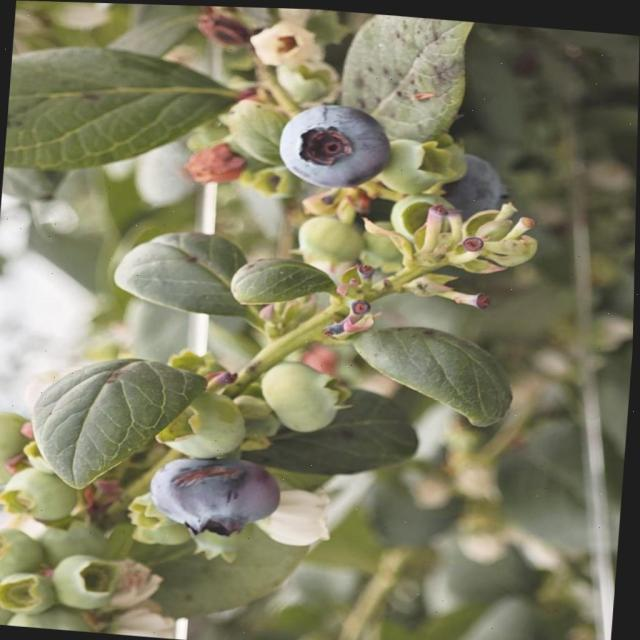RipeBlueBerry: (150, 450, 286, 540), (271, 96, 394, 192), (442, 148, 512, 226)
UnripeBlueBerry: (261, 356, 353, 433)
